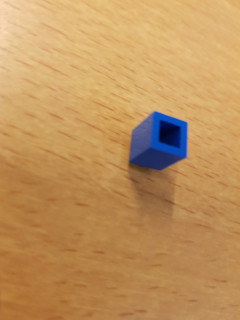1x1 blue: (129, 111, 188, 170)
